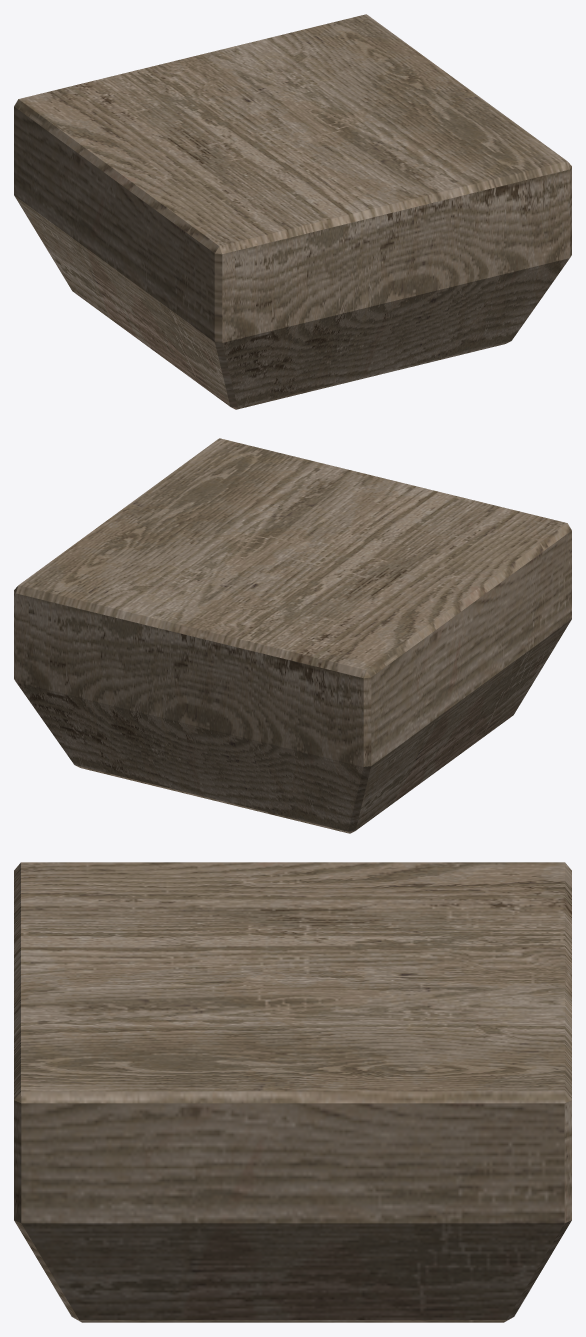
Rendered from SM_Judu.fbx.
3 renders of one model, top to bottom at view 1: azimuth 30°, elevation 25°; view 2: azimuth 150°, elevation 25°; view 3: azimuth 270°, elevation 25°, orthographic. The views are drawn at different scales.
Visible parts, largest first — view 1: SM_Judu; view 2: SM_Judu; view 3: SM_Judu.
Part boxes in pixels (box(x1,y1,x2,y2)): SM_Judu: box(14, 14, 571, 409); SM_Judu: box(14, 438, 571, 833); SM_Judu: box(14, 862, 571, 1322).
Bounding box in the file's own units: 38.44 × 38.44 × 19.5.
Materials: 1 (1 with a texture image).
